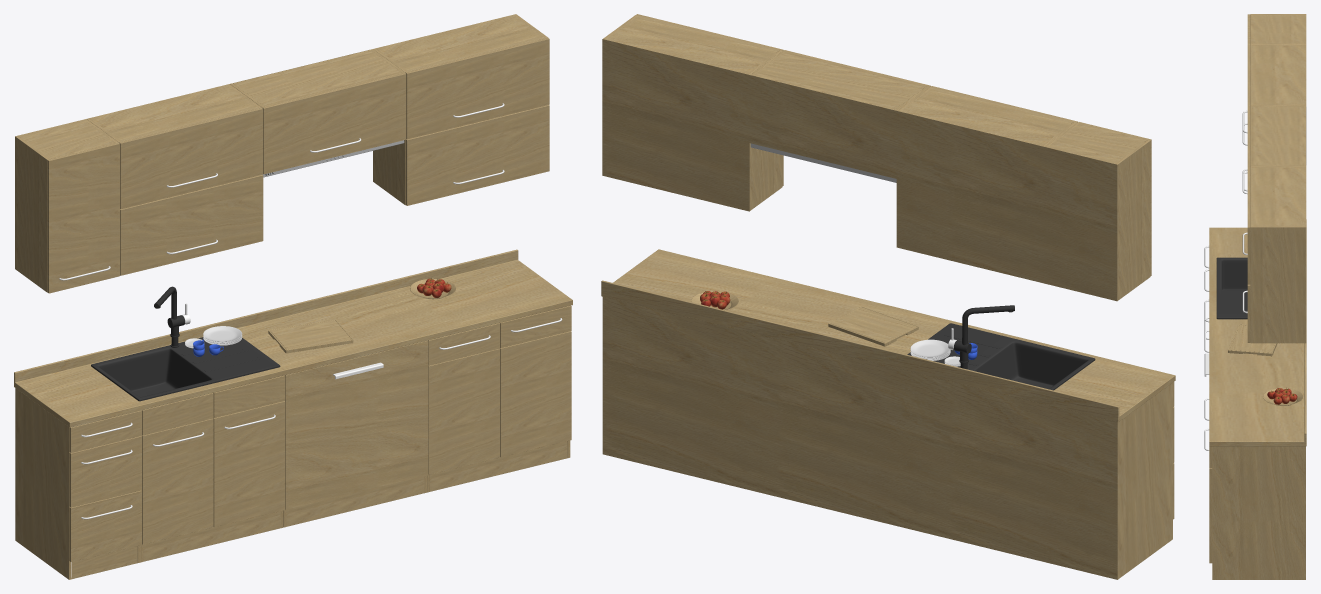
Rendered from kitchen_set.glb.
3 views of the same model, side by side, from view 1: azimuth 30°, elevation 25°; view 2: azimuth 150°, elevation 25°; view 3: azimuth 270°, elevation 25° (orthographic). The views are drawn at different scales.
Parts seen in each view (by area): view 1: tabletop.001, large drawer.013, cabinet doors_upper.006, cabinet doors_upper.010, cabinet doors_upper.008, cabinet doors_upper.011, cabinet doors_upper.009, cabinet doors_upper.007, cabinet frame.017, large drawer.010, large drawer.011, large drawer.012 (+18 smaller); view 2: backside.002, backside.003, tabletop.001, cabinet frame.017, sink one hole.001, cabinet frame_upper.015, cabinet frame_upper.026, cabinet frame_upper.025, cabinet frame_upper.023, cabinet frame_upper.014, cutting board, cabinet frame_upper.021; view 3: cabinet frame.020, tabletop.001, cabinet frame_upper.022, cabinet frame_upper.025, cabinet frame_upper.026, cabinet frame_upper.023, sink one hole.001, cabinet frame_upper.014, cutting board, cabinet doors_upper.010, large drawer.012, wooden bowl (+5 smaller).
Boxes of the visible parts, bbox=[...] form: tabletop.001: bbox=[14, 249, 572, 427]; large drawer.013: bbox=[285, 340, 428, 509]; cabinet doors_upper.006: bbox=[47, 142, 119, 293]; cabinet doors_upper.010: bbox=[405, 38, 549, 139]; cabinet doors_upper.008: bbox=[119, 107, 263, 209]; cabinet doors_upper.011: bbox=[262, 72, 406, 174]; cabinet doors_upper.009: bbox=[405, 105, 549, 205]; cabinet doors_upper.007: bbox=[120, 175, 263, 275]; cabinet frame.017: bbox=[15, 388, 140, 579]; large drawer.010: bbox=[213, 401, 285, 527]; large drawer.011: bbox=[428, 348, 499, 474]; large drawer.012: bbox=[500, 331, 571, 457]; backside.002: bbox=[602, 297, 1117, 579]; backside.003: bbox=[602, 39, 1117, 301]; tabletop.001: bbox=[601, 249, 1175, 422]; cabinet frame.017: bbox=[1117, 382, 1172, 579]; sink one hole.001: bbox=[907, 323, 1095, 390]; cabinet frame_upper.015: bbox=[1115, 140, 1150, 300]; cabinet frame_upper.026: bbox=[605, 15, 778, 74]; cabinet frame_upper.025: bbox=[900, 87, 1073, 145]; cabinet frame_upper.023: bbox=[753, 51, 926, 109]; cabinet frame_upper.014: bbox=[1047, 123, 1146, 163]; cutting board: bbox=[828, 306, 918, 346]; cabinet frame_upper.021: bbox=[747, 50, 782, 210]; cabinet frame.020: bbox=[1212, 446, 1305, 579]; tabletop.001: bbox=[1209, 219, 1306, 446]; cabinet frame_upper.022: bbox=[1250, 226, 1306, 343]; cabinet frame_upper.025: bbox=[1250, 45, 1306, 104]; cabinet frame_upper.026: bbox=[1250, 167, 1306, 226]; cabinet frame_upper.023: bbox=[1250, 106, 1305, 165]; sink one hole.001: bbox=[1216, 257, 1247, 319]; cabinet frame_upper.014: bbox=[1250, 15, 1306, 43]; cutting board: bbox=[1228, 324, 1277, 356]; cabinet doors_upper.010: bbox=[1247, 166, 1250, 284]; large drawer.012: bbox=[1209, 468, 1212, 563]; wooden bowl: bbox=[1263, 388, 1303, 405].
Bounding box in the file's own units: 2.81 × 2.16 × 0.5667.
Materials: 18 (7 with a texture image).
